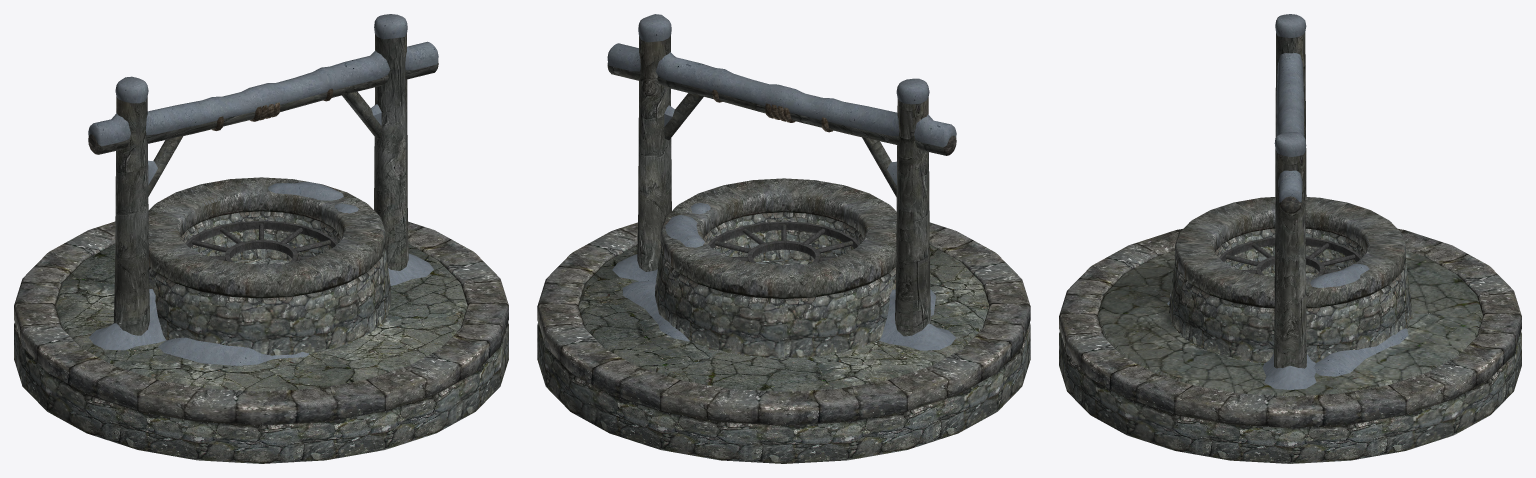
Rendered from dlc2skaalvilfarmwell01-transformed.glb.
The picture shows the model from 3 angles, left to right: view 1: azimuth 30°, elevation 25°; view 2: azimuth 150°, elevation 25°; view 3: azimuth 270°, elevation 25°; orthographic projection. The views are drawn at different scales.
Visible parts, largest first — view 1: default; view 2: default; view 3: default.
Part boxes in pixels (left/top/right/bottom): default: left=14, top=14, right=508, bottom=463; default: left=537, top=14, right=1030, bottom=463; default: left=1059, top=14, right=1521, bottom=463.
Size of the model in its own units: 3.84 by 2.65 by 3.84.
7 materials, 7 textured.
